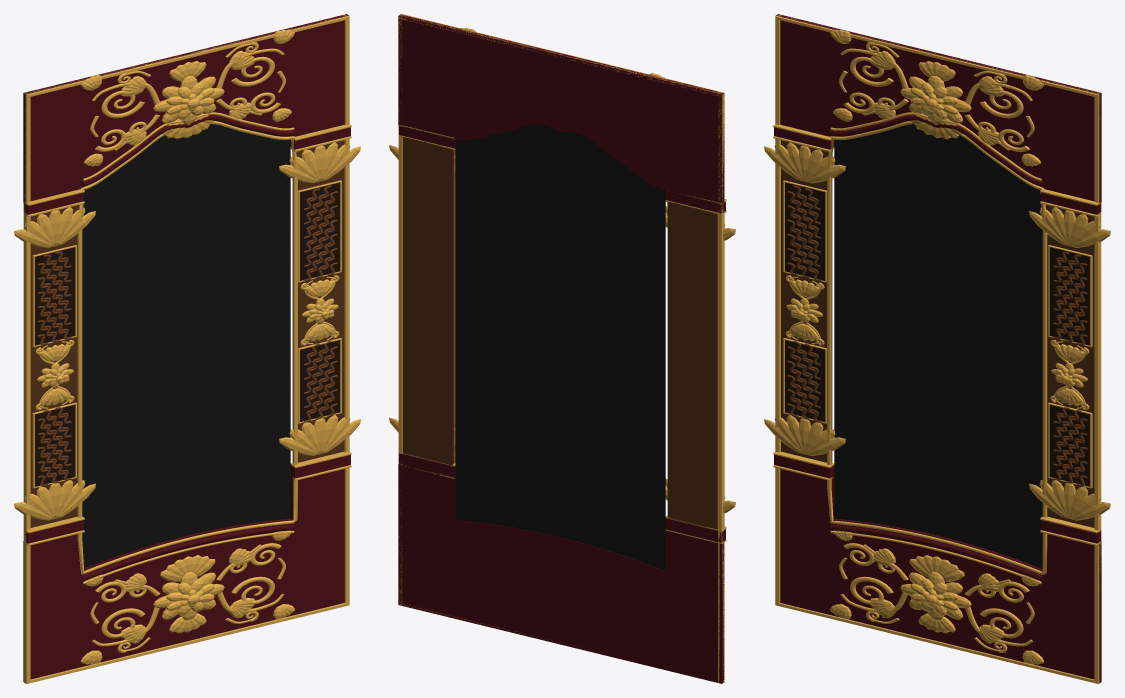
File: frame merah.fbx
3 renders of one model, left to right at view 1: azimuth 30°, elevation 25°; view 2: azimuth 150°, elevation 25°; view 3: azimuth 330°, elevation 25°, orthographic.
Parts seen in each view (by area): view 1: BB_Screen, BB_BasePanel, BB_HeaderPanel, BB_ColumnOrnaments, BB_OuterTrim, BB_HeaderRosette, BB_HeaderRosette.001, BB_GoldLip, BB_BatikFieldL, BB_BatikFieldR, BB_HeaderScrolls.001, BB_HeaderScrolls (+12 smaller); view 2: BB_Screen, BB_BasePanel, BB_HeaderPanel, BB_ColumnR, BB_ColumnL, BB_OuterTrim, BB_MouldingsMaroon, BB_MouldingsGold, BB_ColumnOrnaments, BB_GoldLip; view 3: BB_Screen, BB_BasePanel, BB_HeaderPanel, BB_ColumnOrnaments, BB_OuterTrim, BB_HeaderRosette, BB_HeaderRosette.001, BB_GoldLip, BB_BatikFieldR, BB_BatikFieldL, BB_HeaderScrolls.001, BB_HeaderScrolls (+12 smaller).
Part boxes in pixels (x1=…): BB_Screen: x1=82, y1=124, x2=290, y2=568; BB_BasePanel: x1=23, y1=469, x2=344, y2=683; BB_HeaderPanel: x1=23, y1=14, x2=348, y2=203; BB_ColumnOrnaments: x1=14, y1=142, x2=360, y2=520; BB_OuterTrim: x1=23, y1=14, x2=349, y2=683; BB_HeaderRosette: x1=80, y1=530, x2=294, y2=664; BB_HeaderRosette.001: x1=80, y1=29, x2=294, y2=166; BB_GoldLip: x1=77, y1=121, x2=297, y2=574; BB_BatikFieldL: x1=35, y1=247, x2=75, y2=486; BB_BatikFieldR: x1=300, y1=182, x2=339, y2=421; BB_HeaderScrolls.001: x1=90, y1=42, x2=285, y2=151; BB_HeaderScrolls: x1=90, y1=543, x2=285, y2=652; BB_Screen: x1=455, y1=124, x2=665, y2=570; BB_BasePanel: x1=398, y1=464, x2=724, y2=683; BB_HeaderPanel: x1=398, y1=14, x2=724, y2=204; BB_ColumnR: x1=403, y1=137, x2=454, y2=465; BB_ColumnL: x1=667, y1=201, x2=717, y2=529; BB_OuterTrim: x1=398, y1=14, x2=724, y2=682; BB_MouldingsMaroon: x1=398, y1=126, x2=725, y2=542; BB_MouldingsGold: x1=398, y1=125, x2=726, y2=543; BB_ColumnOrnaments: x1=389, y1=145, x2=735, y2=513; BB_GoldLip: x1=454, y1=150, x2=667, y2=462; BB_Screen: x1=834, y1=124, x2=1042, y2=568; BB_BasePanel: x1=780, y1=469, x2=1101, y2=683; BB_HeaderPanel: x1=776, y1=14, x2=1101, y2=203; BB_ColumnOrnaments: x1=764, y1=142, x2=1110, y2=520; BB_OuterTrim: x1=775, y1=15, x2=1101, y2=683; BB_HeaderRosette: x1=830, y1=530, x2=1044, y2=664; BB_HeaderRosette.001: x1=830, y1=29, x2=1044, y2=166; BB_GoldLip: x1=827, y1=121, x2=1047, y2=574; BB_BatikFieldR: x1=1049, y1=247, x2=1089, y2=486; BB_BatikFieldL: x1=785, y1=182, x2=824, y2=421; BB_HeaderScrolls.001: x1=839, y1=42, x2=1034, y2=151; BB_HeaderScrolls: x1=839, y1=543, x2=1034, y2=652.
Size of the model in its own units: 589 by 960 by 29.02.
